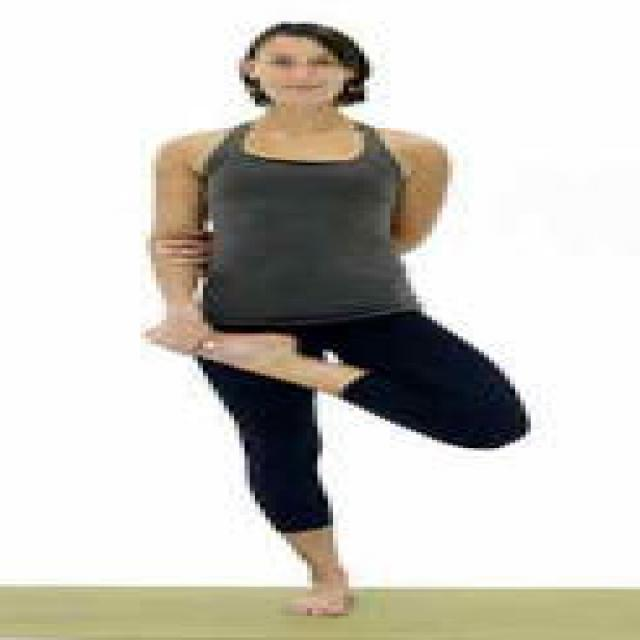yoga-pose tree: (127, 23, 532, 612)
